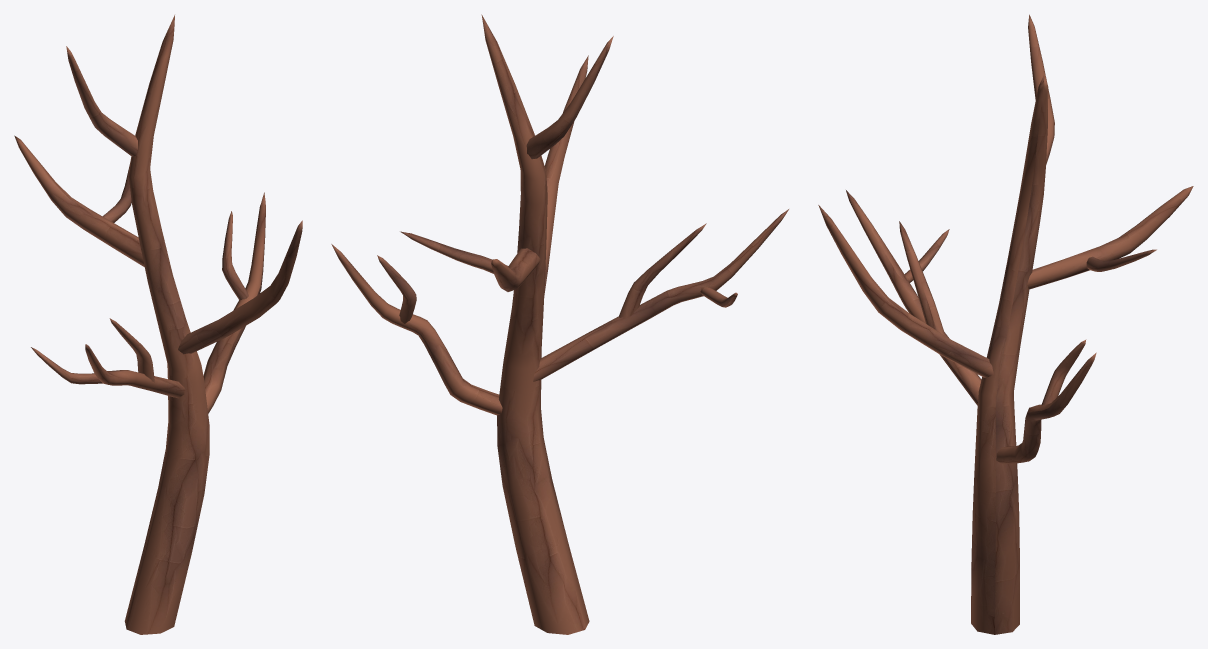
File: dead_tree_5.gltf
The picture shows the model from 3 angles, left to right: view 1: azimuth 30°, elevation 25°; view 2: azimuth 150°, elevation 25°; view 3: azimuth 270°, elevation 25°; orthographic projection. The views are drawn at different scales.
Parts seen in each view (by area): view 1: DeadTree_5; view 2: DeadTree_5; view 3: DeadTree_5.
Part boxes in pixels (x1,y1,x2,y2): DeadTree_5: (14,15,302,634); DeadTree_5: (331,14,788,634); DeadTree_5: (818,14,1193,634).
Bounding box in the file's own units: 1.44 × 2.6 × 1.53.
1 material, 1 textured.
